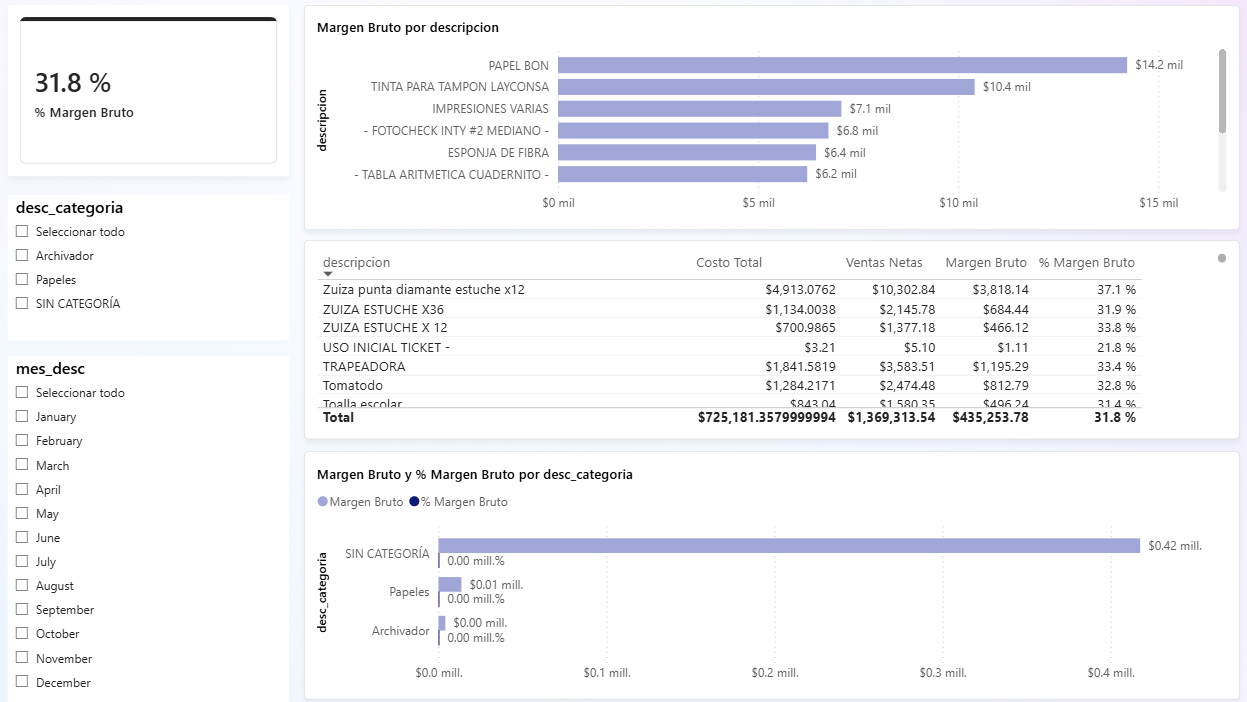

Layout of this report page (visuals, bound fields, positions):
{"tool":"powerbi","page":{"name":"KPI 3 - Margen Bruto","canvas":[1280,720],"ordinal":4},"visuals":[{"type":"cardVisual","fields":{"Data":["_Medidas.% Margen Bruto"]},"box":[18.8,10,280,170],"z":0},{"type":"clusteredBarChart","fields":{"Category":["marts dim_producto.descripcion"],"Y":["_Medidas.Margen Bruto"]},"box":[313.8,10,931.2,223.8],"z":1000},{"type":"tableEx","fields":{"Values":["marts dim_producto.descripcion","_Medidas.Costo Total","_Medidas.Ventas Netas","_Medidas.Margen Bruto","_Medidas.% Margen Bruto"]},"box":[313.8,243.8,931.2,198.8],"z":2000},{"type":"clusteredBarChart","fields":{"Category":["marts dim_producto.desc_categoria"],"Y":["_Medidas.Margen Bruto","_Medidas.% Margen Bruto"]},"box":[313.8,453.8,931.2,247.5],"z":3000},{"type":"slicer","fields":{"Values":["marts dim_producto.desc_categoria"]},"box":[18.8,198.8,280,145],"z":4000},{"type":"slicer","fields":{"Values":["marts dim_fecha.mes_desc"]},"box":[18.8,360,280,343.8],"z":5000}]}

Visuals, with their boxes on the page's 1280x720 design canvas (x1, y1, x2, y2). These are canvas units, not pixel positions in the 1247x702 screenshot, which may show the page scaled, cropped or inside an application window:
cardVisual - _Medidas.% Margen Bruto: locate(19, 10, 299, 180)
clusteredBarChart - marts dim_producto.descripcion x _Medidas.Margen Bruto: locate(314, 10, 1245, 234)
tableEx - marts dim_producto.descripcion x _Medidas.Costo Total: locate(314, 244, 1245, 443)
clusteredBarChart - marts dim_producto.desc_categoria x _Medidas.Margen Bruto: locate(314, 454, 1245, 701)
slicer - marts dim_producto.desc_categoria: locate(19, 199, 299, 344)
slicer - marts dim_fecha.mes_desc: locate(19, 360, 299, 704)
